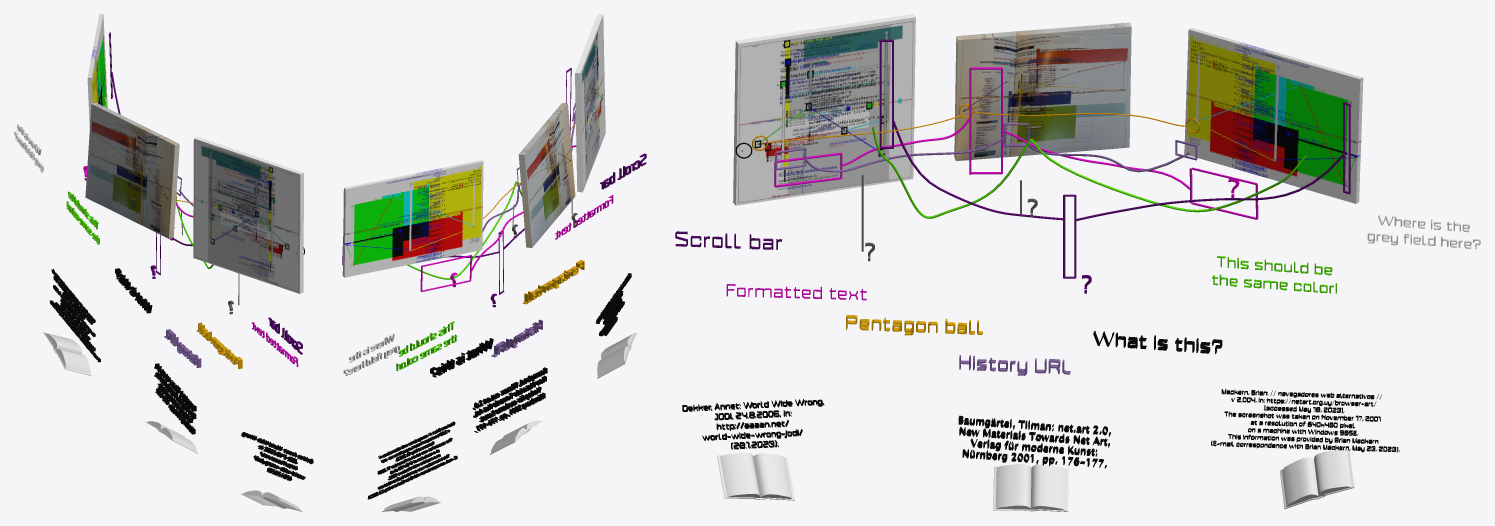
File: DIAGRAM_MODEL.fbx
3 renders of one model, left to right at view 1: azimuth 30°, elevation 25°; view 2: azimuth 150°, elevation 25°; view 3: azimuth 270°, elevation 25°, orthographic. The views are drawn at different scales.
Visible parts, largest first — view 1: SCREENSHOT_1_left, SCREENSHOT_2_CENTER, reference_3, SCREENSHOT_3_right, reference_2, reference_1, citation_2, citation_1, color_change, Pentagon_ball, grey_field, citation_3 (+3 smaller); view 2: SCREENSHOT_3_right, SCREENSHOT_2_CENTER, SCREENSHOT_1_left, reference_3, reference_2, citation_1, color_change, reference_1, grey_field, Pentagon_ball, what, PINK_SYSTEM (+7 smaller); view 3: SCREENSHOT_1_left, SCREENSHOT_3_right, SCREENSHOT_2_CENTER, reference_3, citation_3, reference_2, citation_1, PURPLE_SYSTEM, citation_2, PINK_SYSTEM, reference_1, LILAC_SYSTEM (+6 smaller).
Part boxes in pixels (x1,y1,x2,y2): SCREENSHOT_1_left: (193, 136, 303, 293); SCREENSHOT_2_CENTER: (85, 102, 179, 238); reference_3: (49, 269, 100, 362); SCREENSHOT_3_right: (87, 14, 107, 128); reference_2: (154, 363, 196, 434); reference_1: (241, 432, 313, 481); citation_2: (43, 332, 91, 375); citation_1: (241, 490, 302, 511); color_change: (66, 191, 99, 244); Pentagon_ball: (196, 322, 242, 369); grey_field: (14, 124, 43, 172); citation_3: (146, 421, 198, 453); SCREENSHOT_3_right: (342, 160, 483, 277); SCREENSHOT_2_CENTER: (518, 103, 575, 247); SCREENSHOT_1_left: (575, 14, 605, 192); reference_3: (367, 421, 457, 499); reference_2: (472, 367, 547, 432); citation_1: (597, 333, 636, 378); color_change: (396, 321, 457, 370); reference_1: (595, 273, 631, 336); grey_field: (343, 333, 399, 376); Pentagon_ball: (523, 260, 584, 304); what: (430, 338, 493, 377); PINK_SYSTEM: (420, 145, 576, 291); SCREENSHOT_1_left: (733, 14, 915, 205); SCREENSHOT_3_right: (1184, 28, 1363, 203); SCREENSHOT_2_CENTER: (954, 22, 1131, 160); reference_3: (1211, 389, 1399, 452); citation_3: (993, 464, 1068, 511); reference_2: (958, 415, 1110, 468); citation_1: (717, 452, 794, 500); PURPLE_SYSTEM: (879, 39, 1350, 293); citation_2: (1279, 449, 1354, 508); PINK_SYSTEM: (774, 67, 1258, 219); reference_1: (682, 399, 824, 449); LILAC_SYSTEM: (775, 123, 1197, 172).
Size of the model in its own units: 7.06 by 21.64 by 33.12.
Materials: 31 (3 with a texture image).
